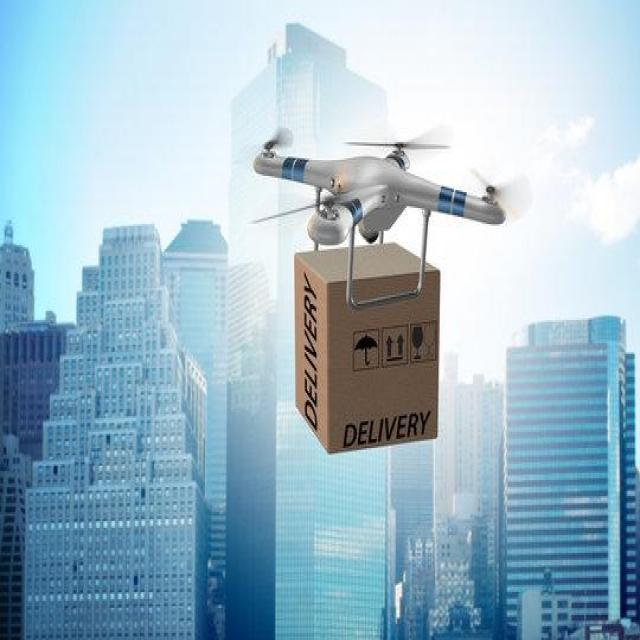box: (293, 234, 441, 456)
